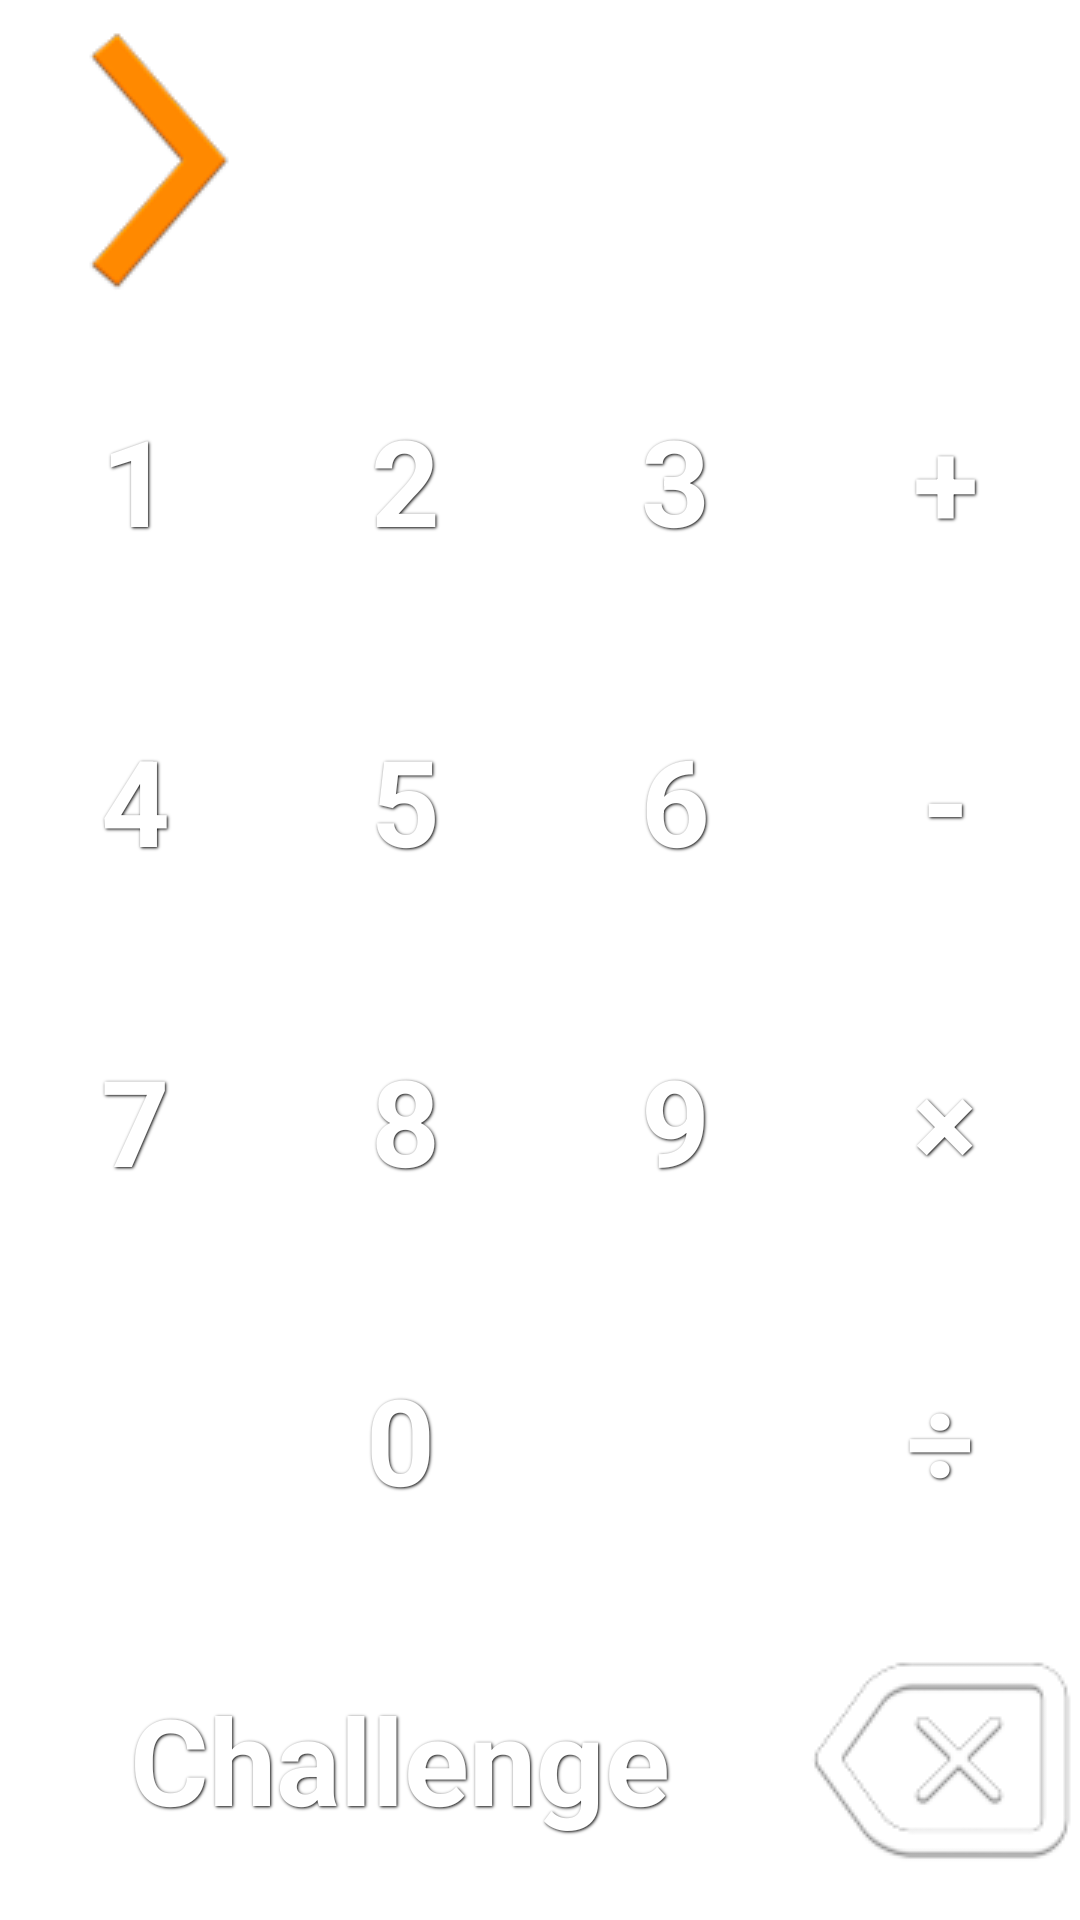

Screen size 1080×1920. Icon name, then its box in pixels as (x1, y1, x2, y2):
backspace: (814, 1663, 1069, 1859)
